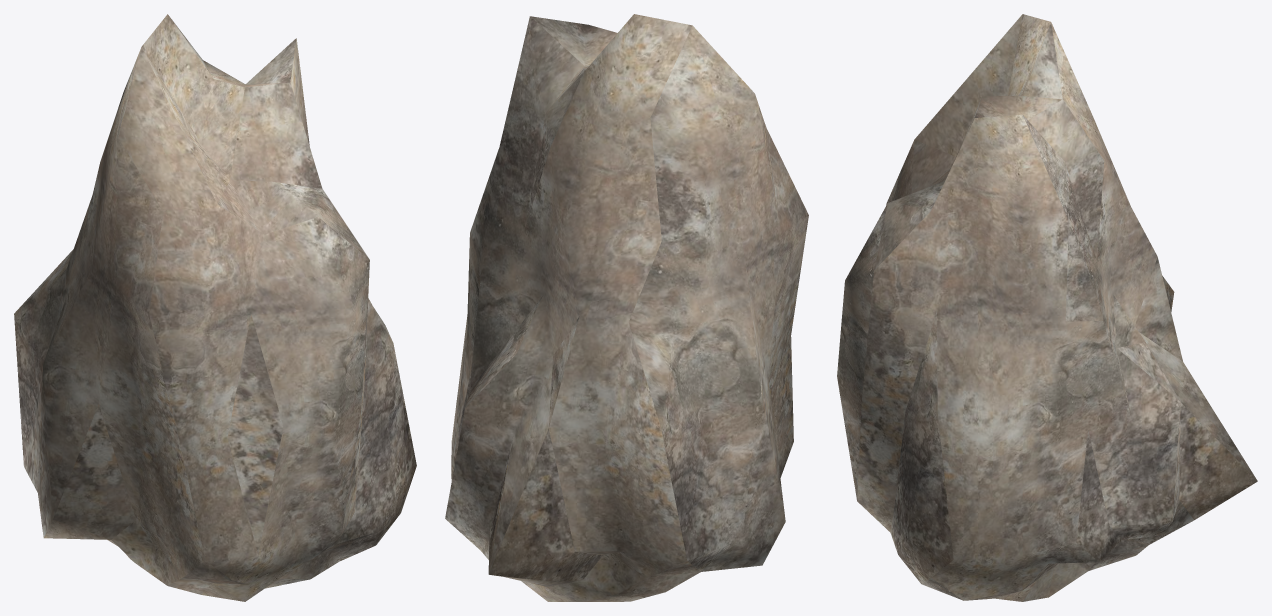
File: n-rockTallB.glb
The picture shows the model from 3 angles, left to right: view 1: azimuth 30°, elevation 25°; view 2: azimuth 150°, elevation 25°; view 3: azimuth 270°, elevation 25°; orthographic projection. The views are drawn at different scales.
Parts seen in each view (by area): view 1: rock; view 2: rock; view 3: rock.
Boxes of the visible parts, box(x1,y1,x2,y2) form: rock: box(14, 14, 416, 601); rock: box(445, 14, 808, 601); rock: box(837, 14, 1257, 601).
Bounding box in the file's own units: 1.7 × 2.85 × 1.96.
1 material, 1 textured.
